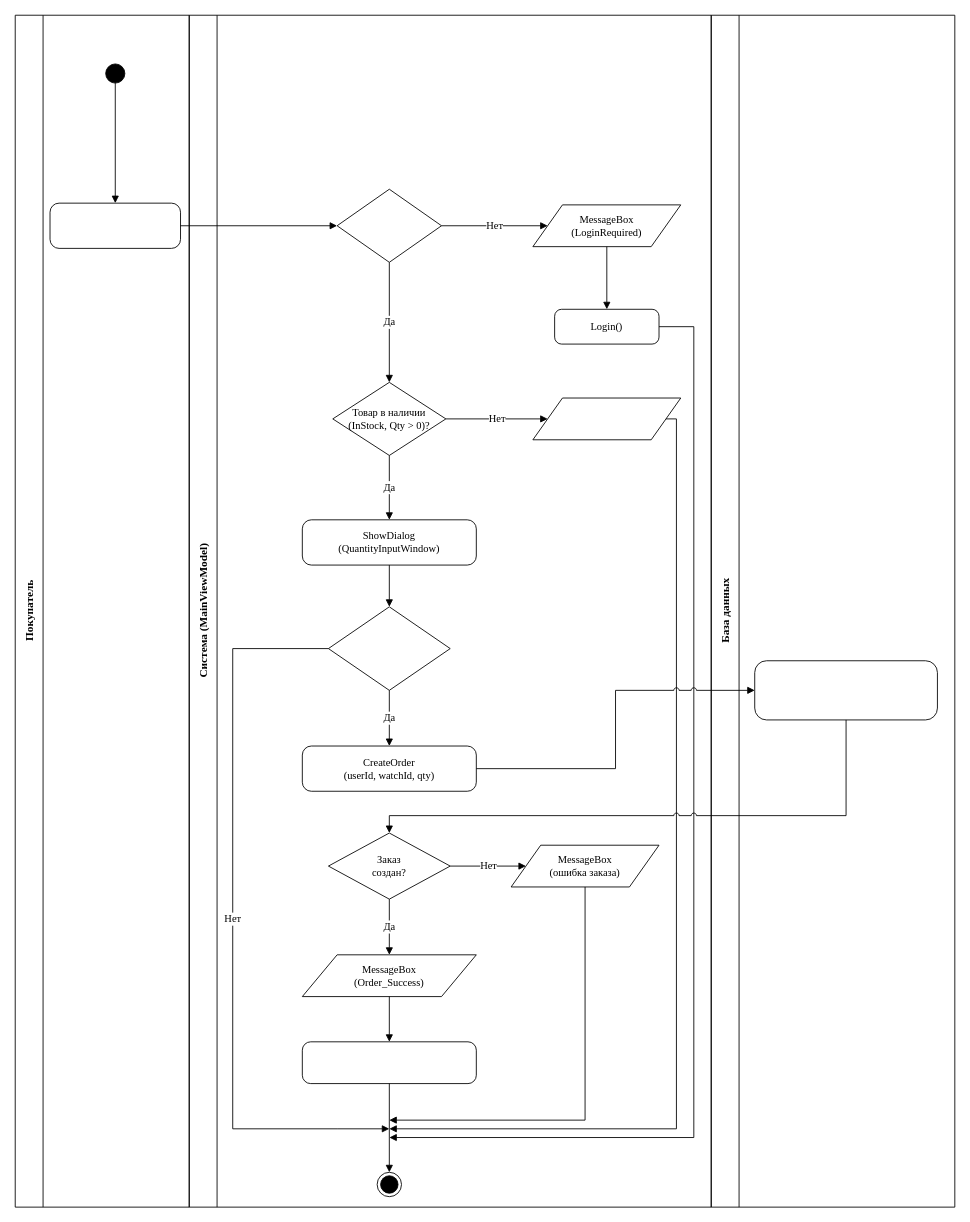
This 970x1222 diagram has some shape labels left out. The centre of each missing label's shape, as x and y in pixels:
EXEC sp_CreateOrder (транзакция, триггер обновления склада): the point at 845,690
MessageBox (OutOfStock): the point at 606,418
Количество подтверждено и qty ≤ остаток?: the point at 389,648
Нажатие кнопки «Оформить заказ»: the point at 115,225
Обновить Quantity, InStock в модели: the point at 388,1062
Пользователь авторизован?: the point at 389,225
